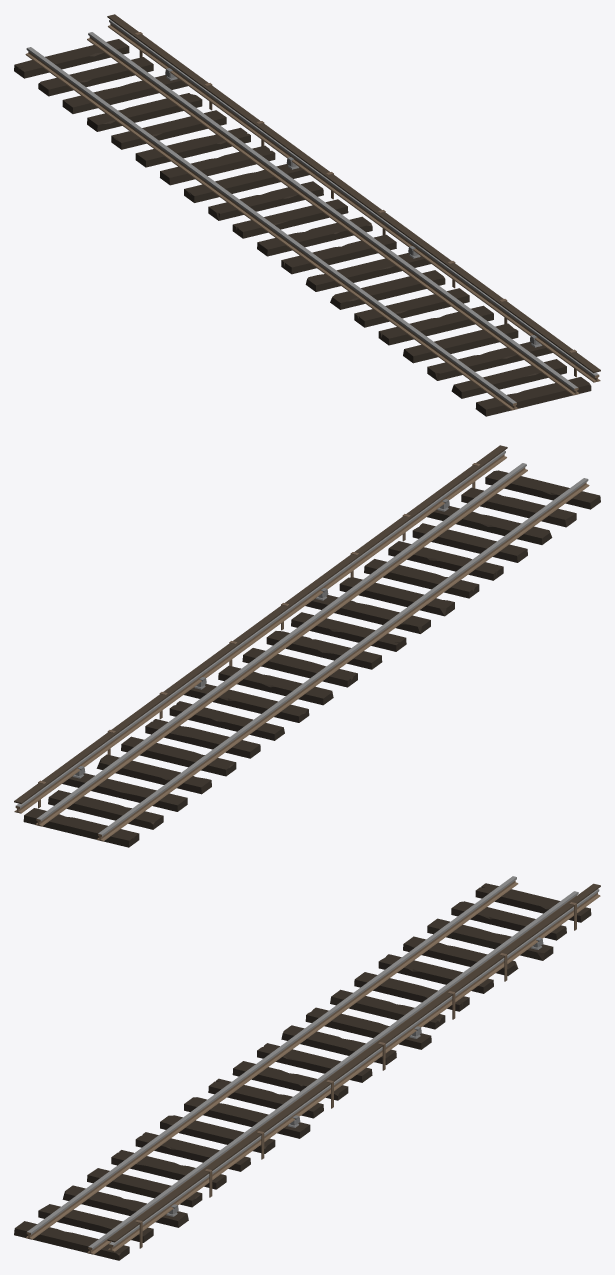
File: SW_ENV_TrackStraight_20m.fbx
3 views of the same model, one above another, from view 1: azimuth 30°, elevation 25°; view 2: azimuth 150°, elevation 25°; view 3: azimuth 330°, elevation 25° (orthographic).
Parts seen in each view (by area): view 1: SW_ENV_TrackStraight_20m; view 2: SW_ENV_TrackStraight_20m; view 3: SW_ENV_TrackStraight_20m.
Boxes of the visible parts, <box> form: SW_ENV_TrackStraight_20m: <box>14,14,600,416</box>; SW_ENV_TrackStraight_20m: <box>14,445,600,847</box>; SW_ENV_TrackStraight_20m: <box>14,876,600,1260</box>.
Size of the model in its own units: 276 by 58.74 by 2000.
